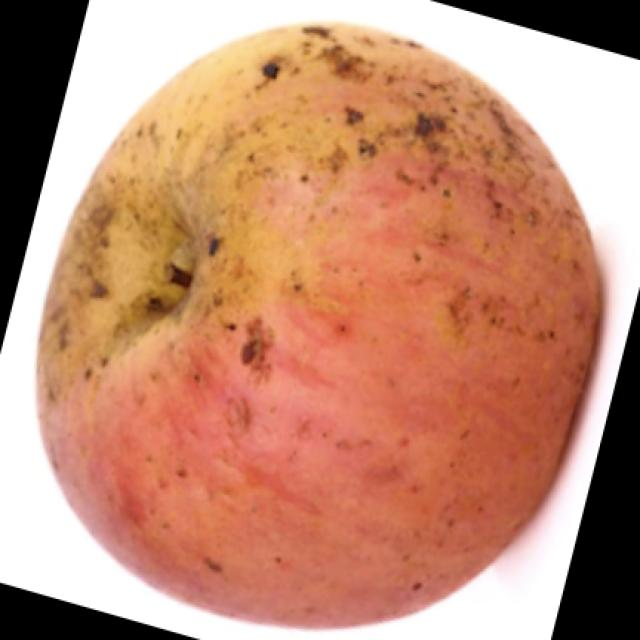overripe: (31, 14, 604, 624)
